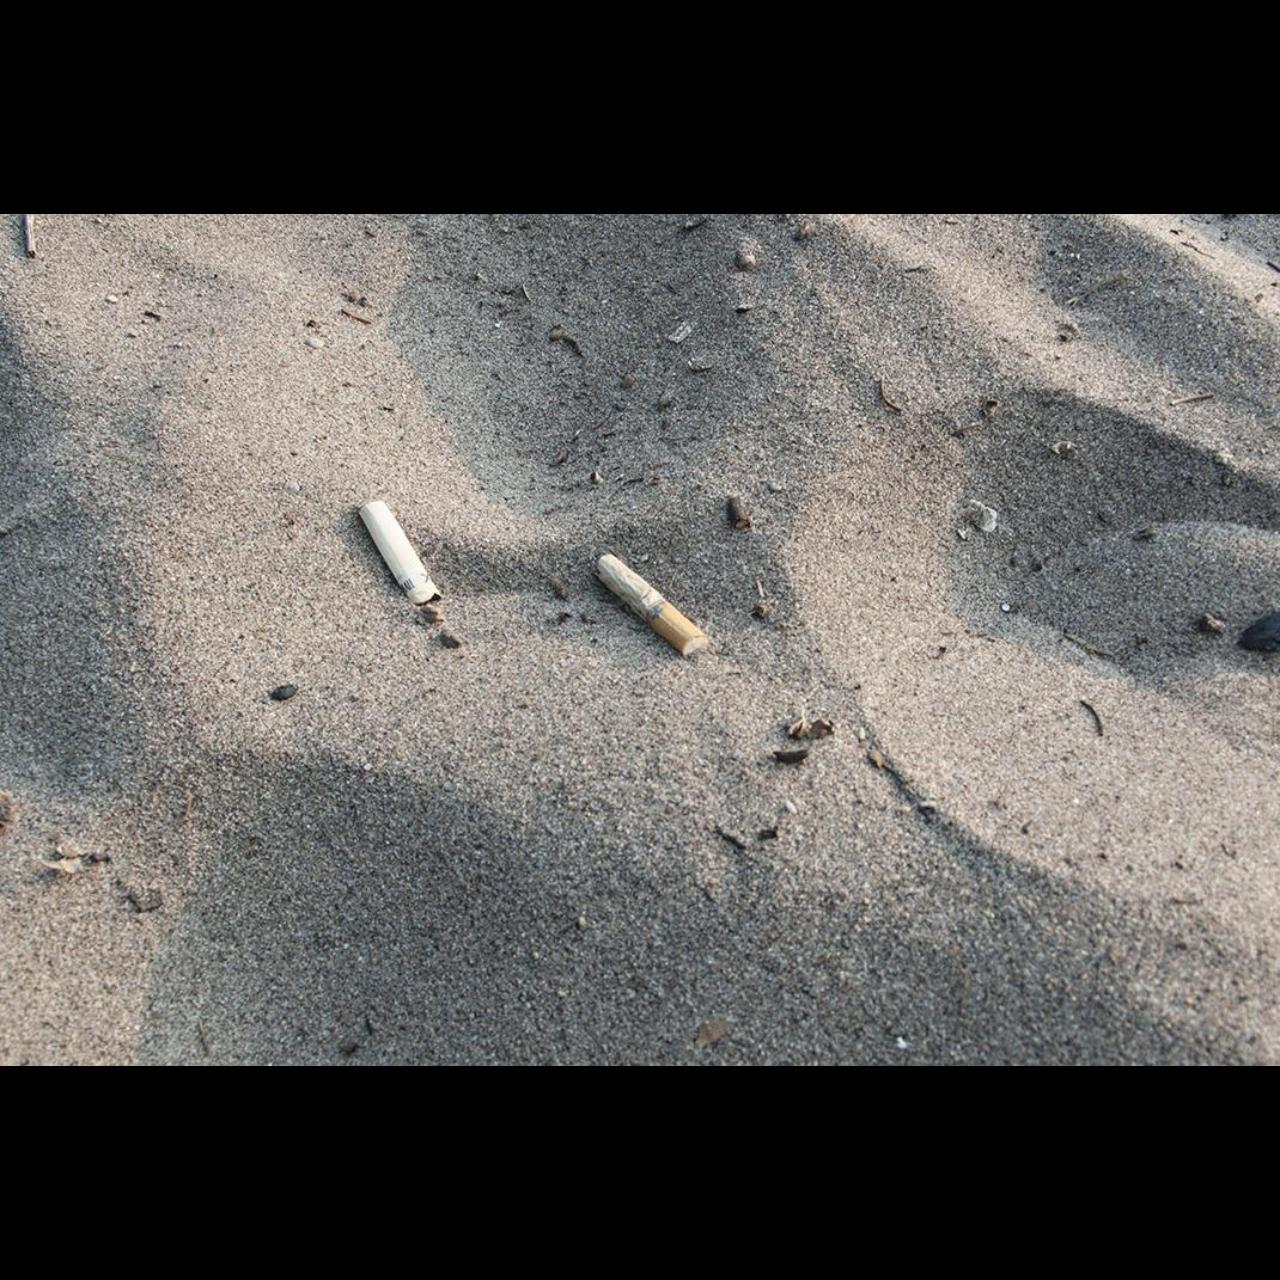cigarettes_butts: (598, 555, 709, 657), (360, 502, 438, 604)
